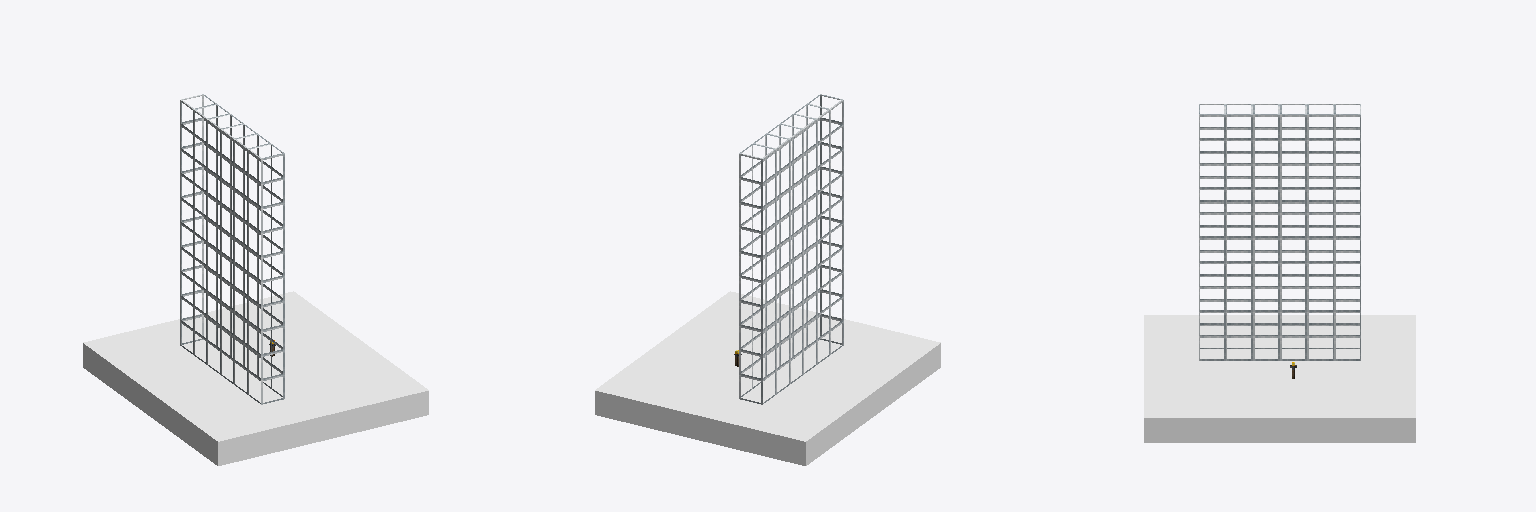
3 views of the same model, side by side, from view 1: azimuth 30°, elevation 25°; view 2: azimuth 150°, elevation 25°; view 3: azimuth 270°, elevation 25° (orthographic).
Visible parts, largest first — view 1: Grass_Block, Glass; view 2: Grass_Block, Glass; view 3: Grass_Block, Glass.
Part boxes in pixels (left/top/right/bottom): Grass_Block: left=83, top=291, right=428, bottom=465; Glass: left=180, top=94, right=284, bottom=404; Grass_Block: left=595, top=291, right=940, bottom=465; Glass: left=739, top=94, right=843, bottom=404; Grass_Block: left=1144, top=315, right=1415, bottom=442; Glass: left=1199, top=104, right=1360, bottom=360.
Bounding box in the file's own units: 9 × 11 × 10.
3 materials, 1 textured.